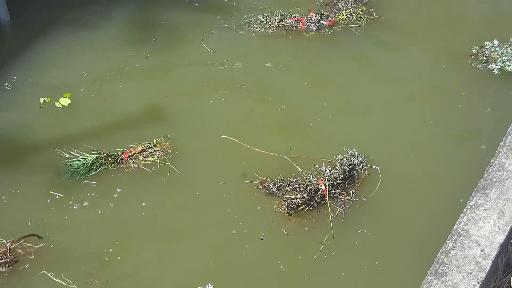leaf: (33, 95, 82, 112)
twig: (221, 132, 381, 250), (54, 138, 188, 184), (250, 3, 381, 37), (0, 229, 45, 278), (463, 42, 512, 80), (38, 268, 93, 287), (298, 0, 377, 7), (195, 282, 226, 284)
